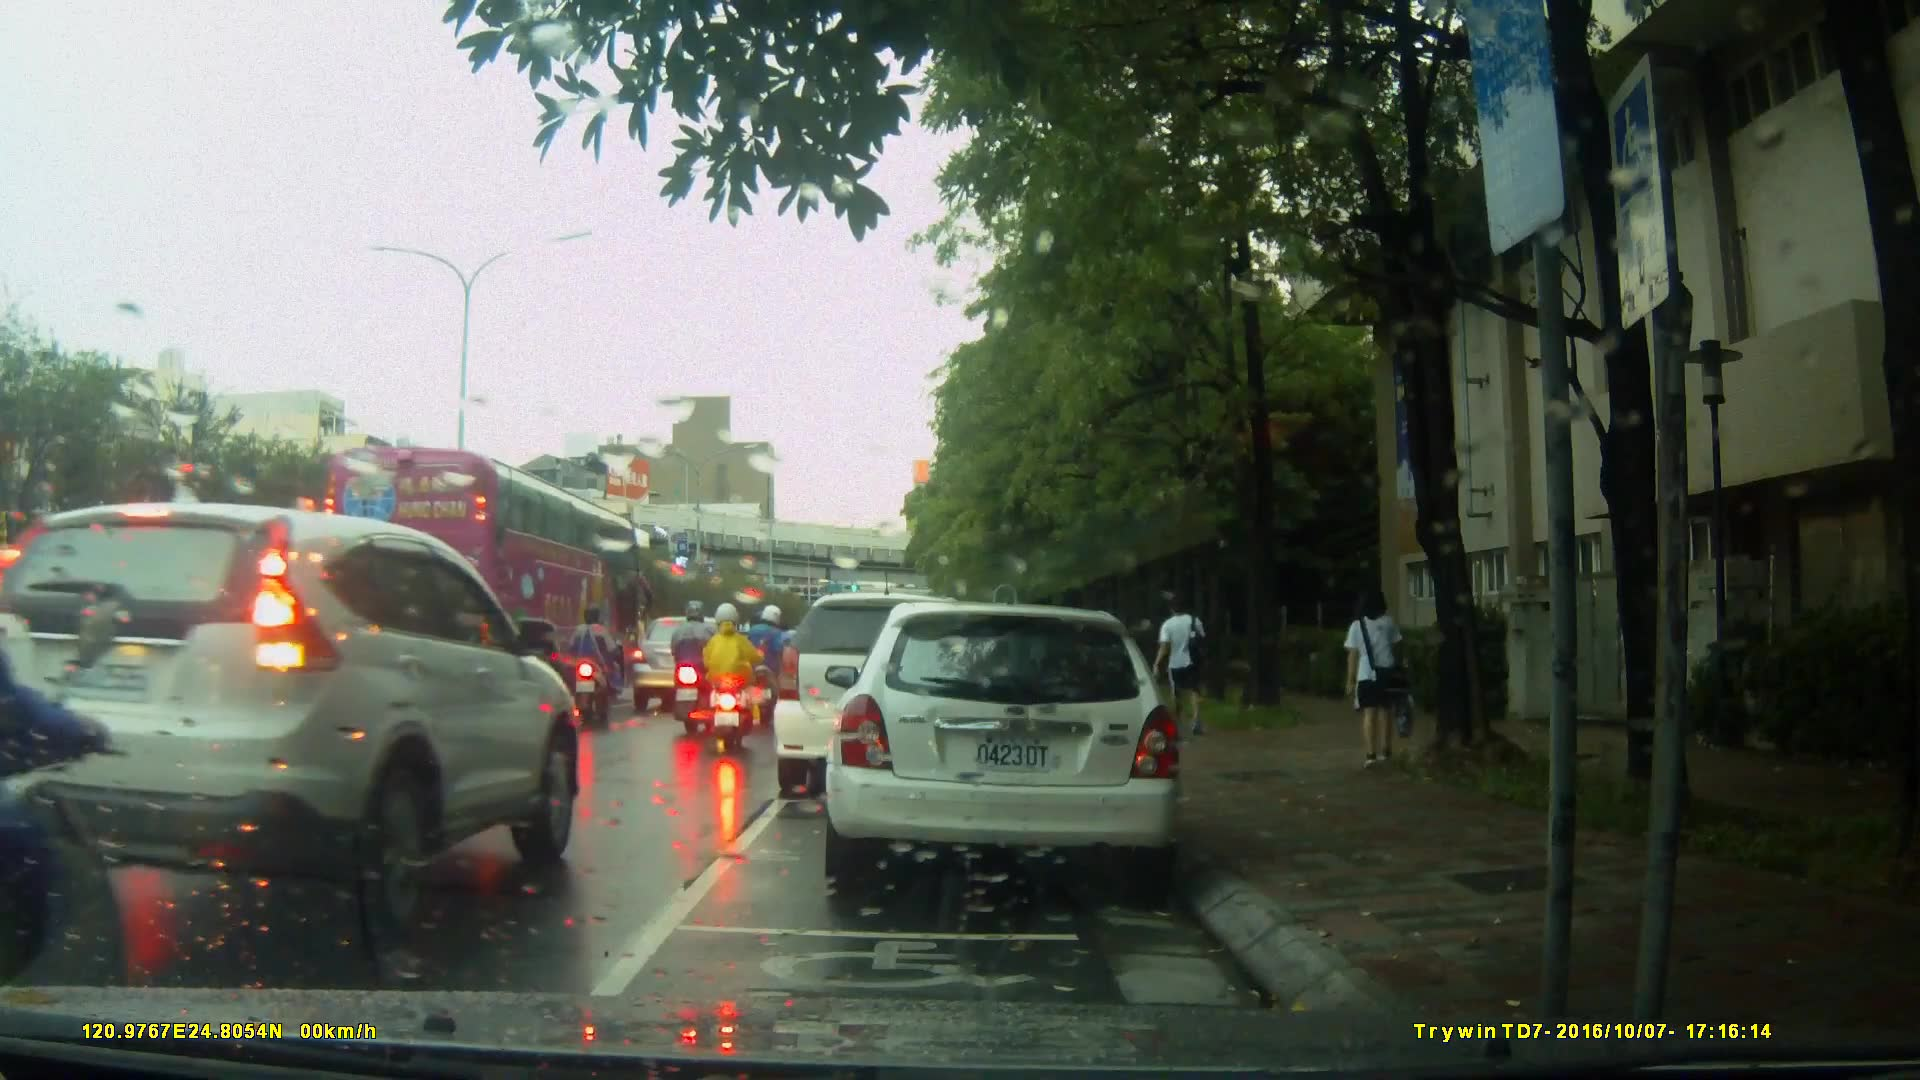pedestrian: (1336, 581, 1421, 784), (1155, 587, 1207, 733)
rider: (1, 517, 133, 1059), (697, 602, 755, 754), (662, 595, 716, 732), (563, 605, 627, 717), (743, 605, 797, 719)
vehicle: (6, 493, 583, 960), (835, 594, 1194, 898), (309, 448, 650, 698), (776, 590, 1026, 784), (630, 616, 747, 706)
